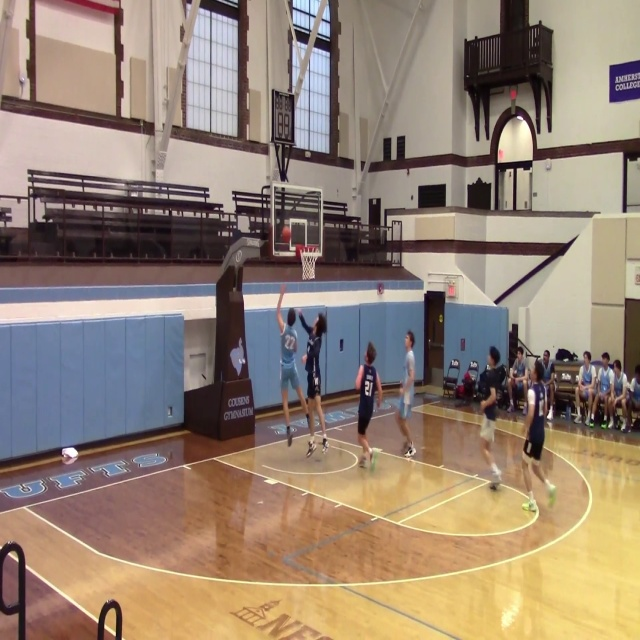Basketball: (61, 447, 78, 465), (280, 226, 291, 243), (61, 447, 78, 458), (377, 283, 384, 294)
